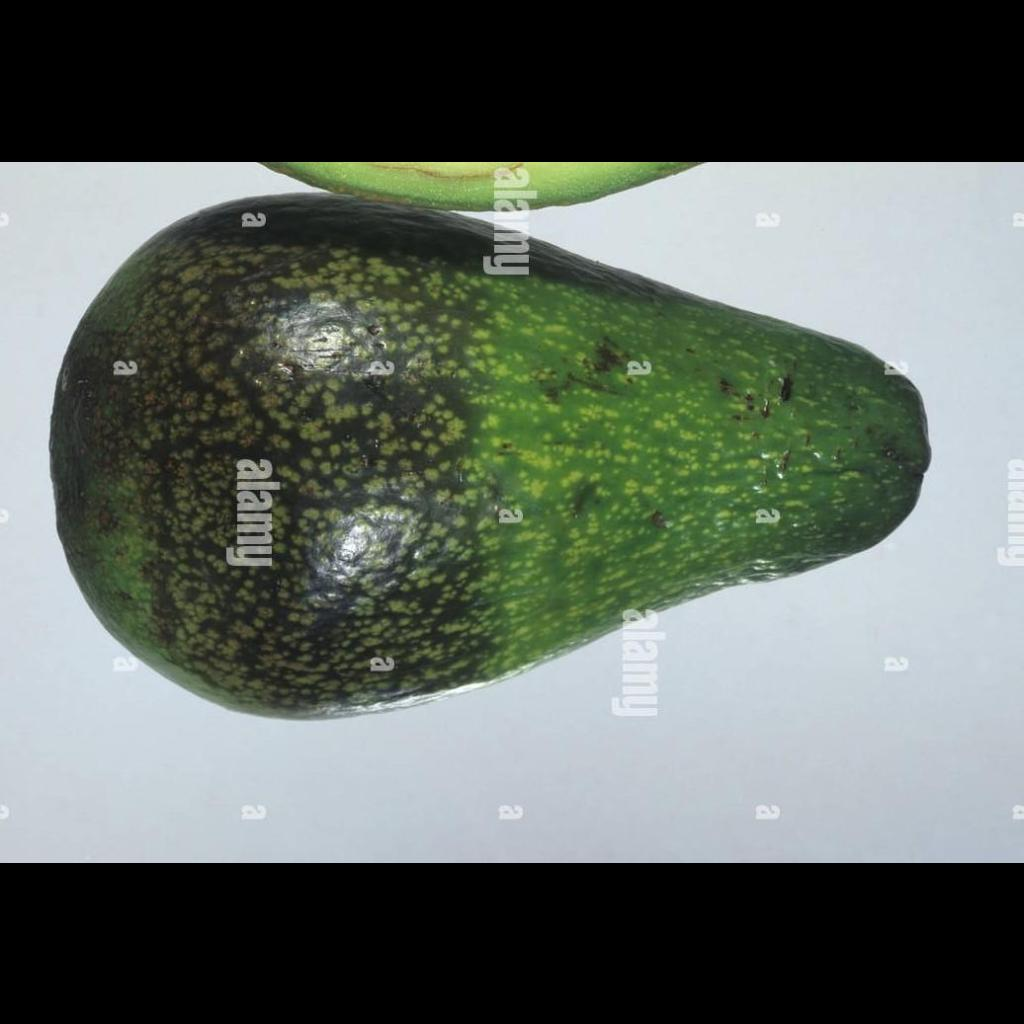antracnosis_fruto: (72, 197, 764, 687)
